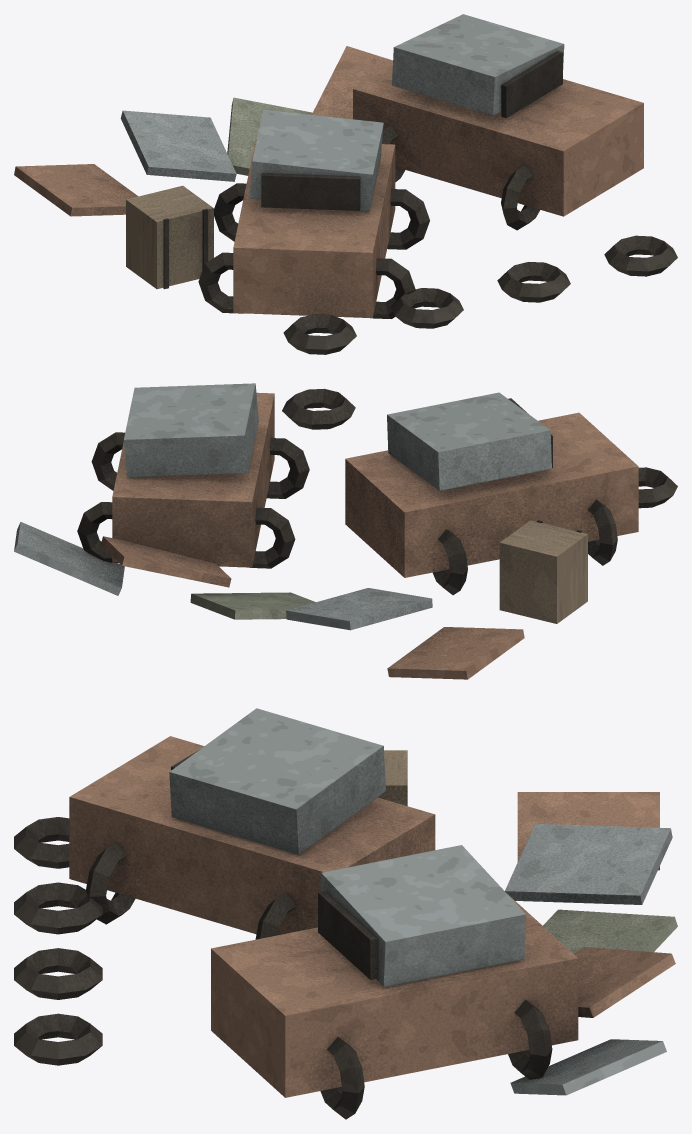
The model's file is Scrapyard.fbx.
3 views of the same model, one above another, from view 1: azimuth 30°, elevation 25°; view 2: azimuth 150°, elevation 25°; view 3: azimuth 270°, elevation 25° (orthographic). The views are drawn at different scales.
Visible parts, largest first — view 1: Scrapyard; view 2: Scrapyard; view 3: Scrapyard.
Part boxes in pixels (x1,y1,x2,y2): Scrapyard: (14,14,677,354); Scrapyard: (14,383,677,679); Scrapyard: (14,708,677,1119).
Bounding box in the file's own units: 2.77 × 0.7932 × 2.57.
Materials: 1 (1 with a texture image).
